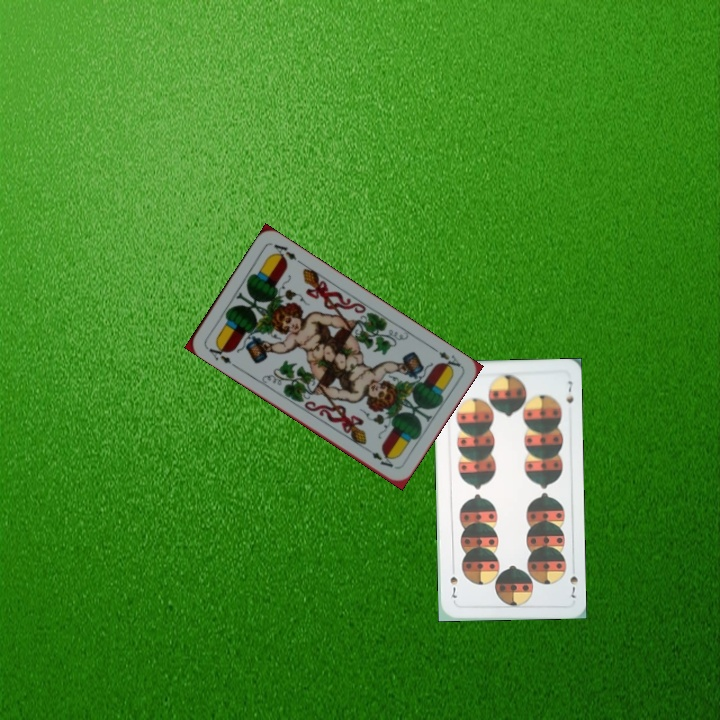EA: (427, 343, 463, 373), (202, 340, 234, 366)
S7: (566, 562, 580, 600)
